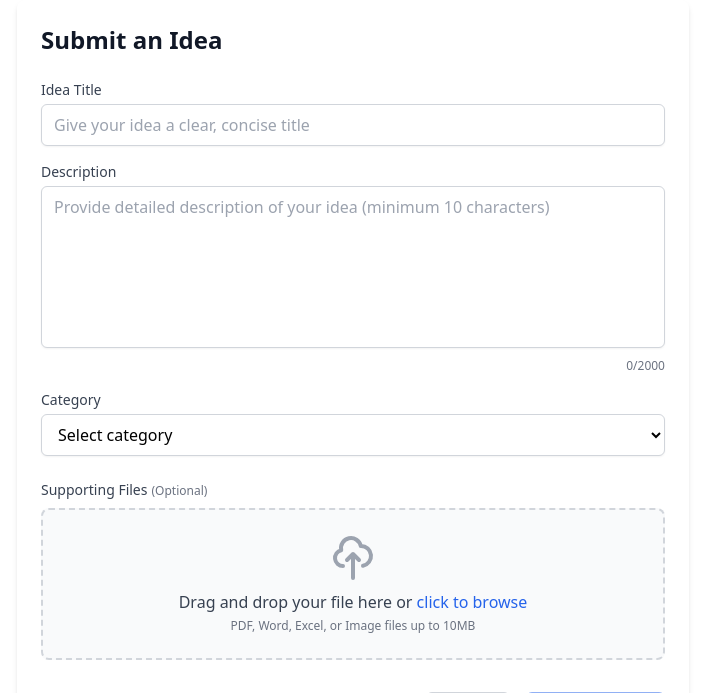
Test case: IdeaSubmissionForm › validation errors › should show error when description is too short
The width and height of the screenshot is (707, 693).
Replace the text in the text box labelled "Description" with "Short" at {"x": 353, "y": 267}, box [41, 186, 665, 348]
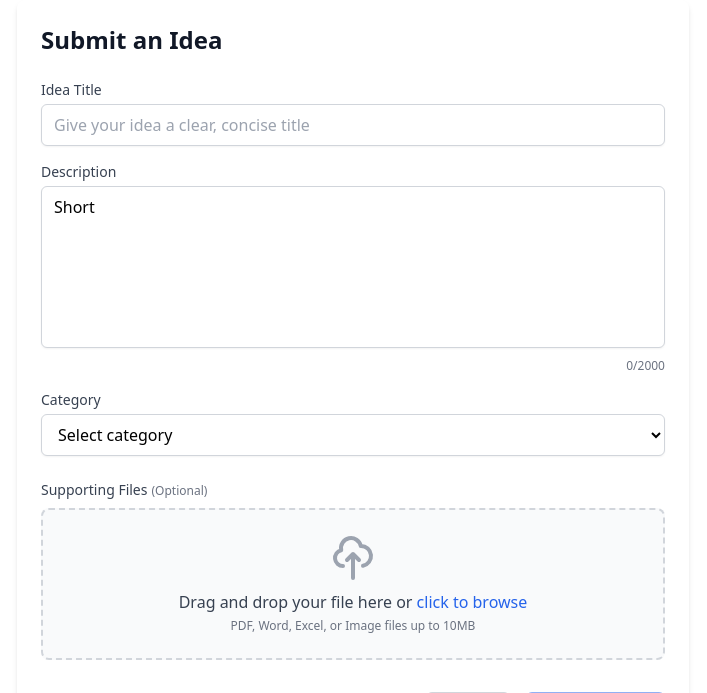
Leave the text box labelled "Description", box [41, 186, 665, 348]
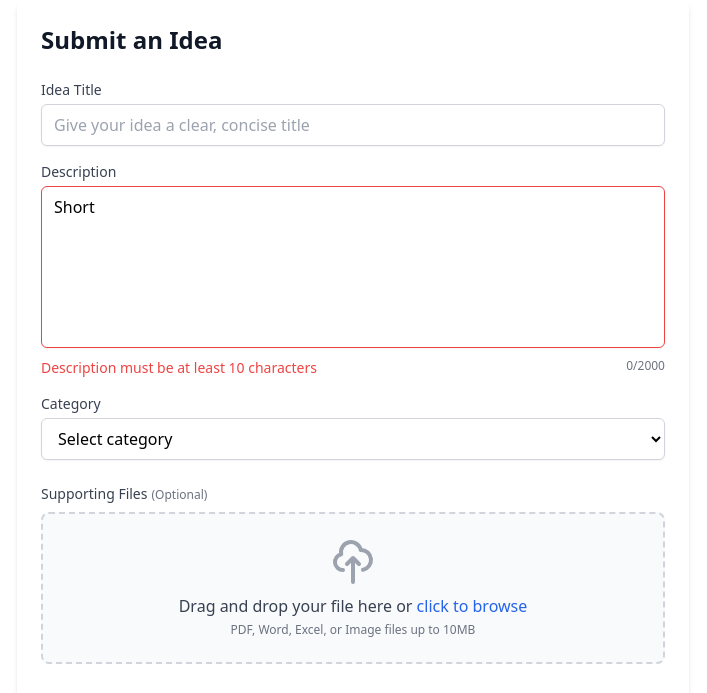
Expected: the text "Description must be at least 10 characters" is shown, [41, 358, 317, 378]
